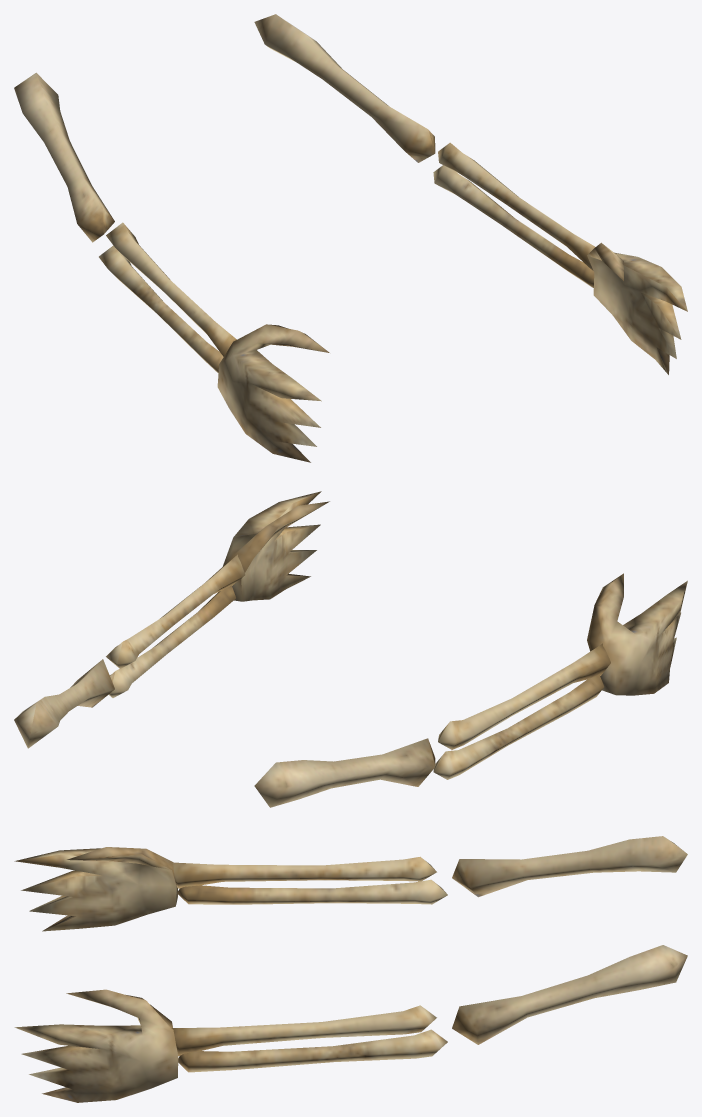
3 renders of one model, top to bottom at view 1: azimuth 30°, elevation 25°; view 2: azimuth 150°, elevation 25°; view 3: azimuth 270°, elevation 25°, orthographic. The views are drawn at different scales.
Parts seen in each view (by area): view 1: skeleton; view 2: skeleton; view 3: skeleton.
Part boxes in pixels (x1,y1,x2,y2): skeleton: (14,14,687,462); skeleton: (14,491,687,807); skeleton: (14,836,687,1102).
Size of the model in its own units: 48.84 by 14.88 by 74.18.
